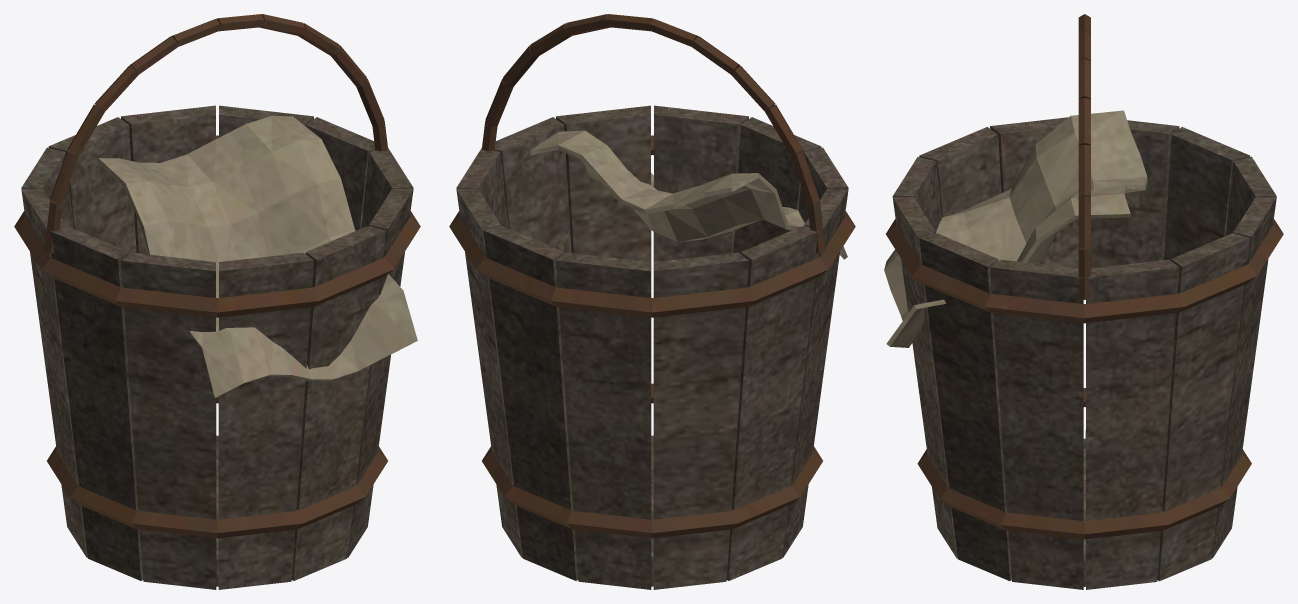
File: water-bucket.glb
3 views of the same model, side by side, from view 1: azimuth 30°, elevation 25°; view 2: azimuth 150°, elevation 25°; view 3: azimuth 270°, elevation 25° (orthographic). The views are drawn at different scales.
Parts seen in each view (by area): view 1: water-bucket; view 2: water-bucket; view 3: water-bucket.
Part boxes in pixels (box(x1,y1,x2,y2)): water-bucket: box(14, 14, 420, 589); water-bucket: box(449, 14, 855, 589); water-bucket: box(884, 14, 1283, 589).
Size of the model in its own units: 0.338 by 0.4659 by 0.3393.
1 material, 1 textured.
